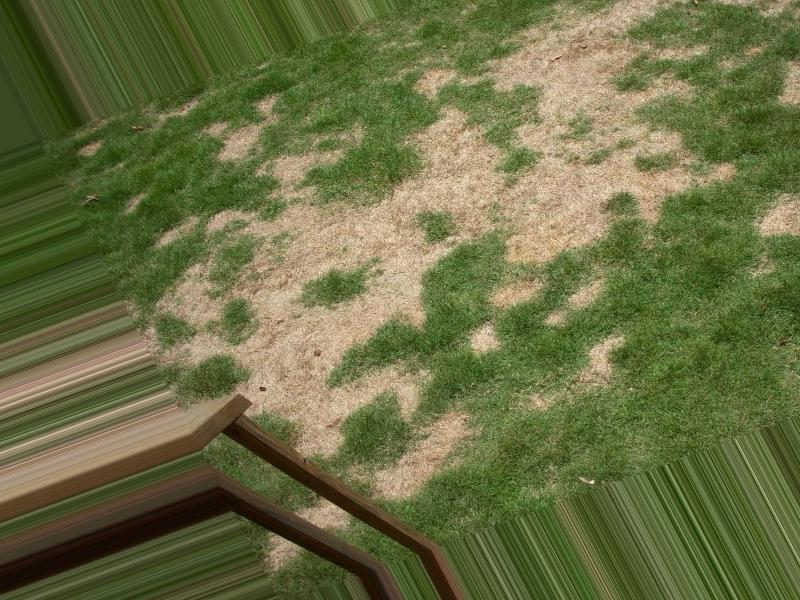patch: (504, 56, 591, 232), (256, 286, 322, 420), (323, 205, 408, 303), (441, 128, 478, 236)
